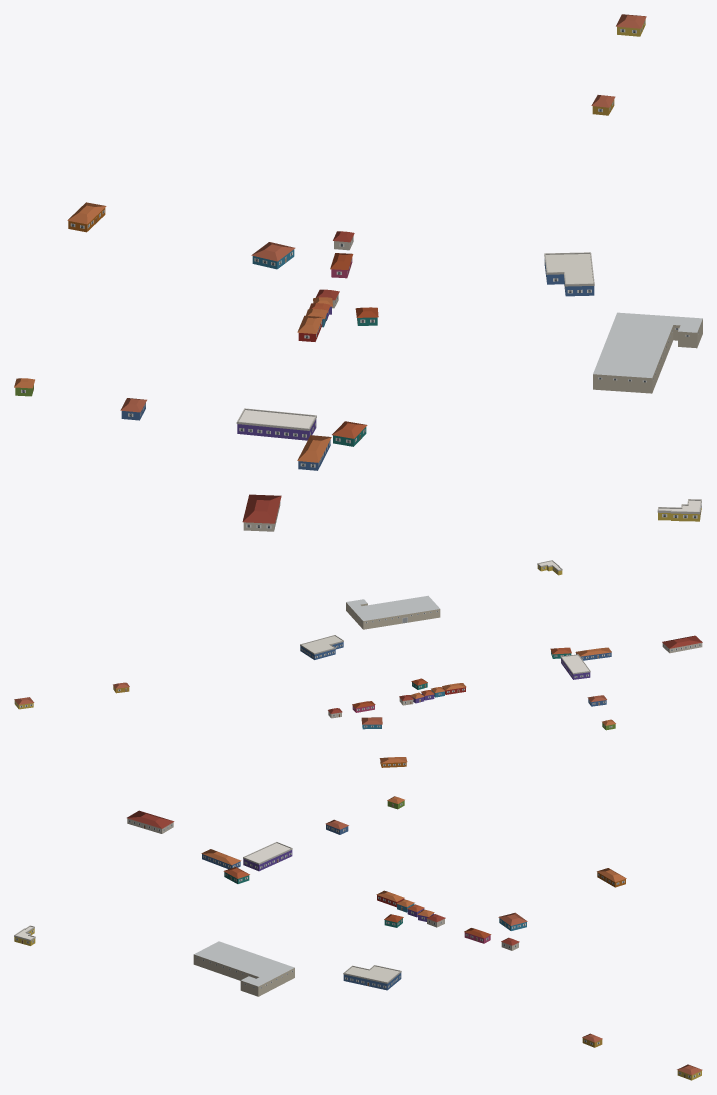
File: msb_oranjestad_m21_m2.glb
3 views of the same model, one above another, from view 1: azimuth 30°, elevation 25°; view 2: azimuth 150°, elevation 25°; view 3: azimuth 270°, elevation 25° (orthographic). The views are drawn at different scales.
Visible parts, largest first — view 1: msb_oranjestad_m21_m2_lod0; view 2: msb_oranjestad_m21_m2_lod0; view 3: msb_oranjestad_m21_m2_lod0.
Boxes of the visible parts, bbox=[...] form: msb_oranjestad_m21_m2_lod0: bbox=[14, 14, 702, 531]; msb_oranjestad_m21_m2_lod0: bbox=[14, 560, 702, 767]; msb_oranjestad_m21_m2_lod0: bbox=[14, 796, 702, 1080].
Size of what is drawn, in the model's own units: 366 by 11.1 by 384.
Materials: 3 (1 with a texture image).
